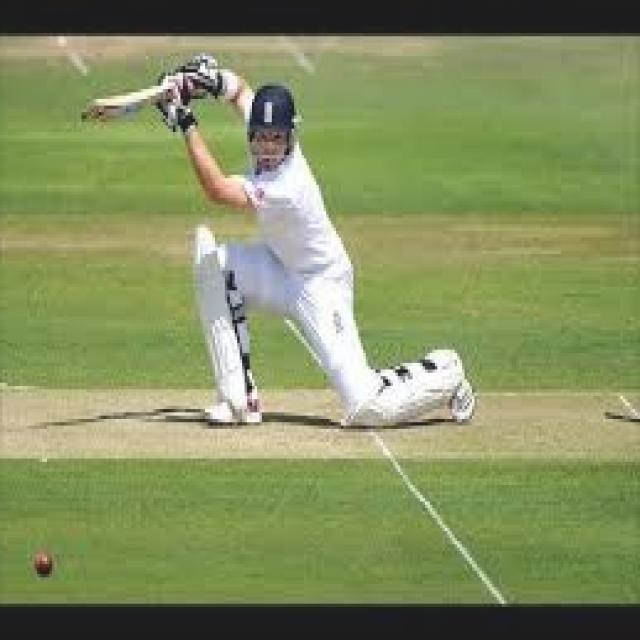bat: (83, 76, 183, 125)
toe: (82, 99, 102, 121)
